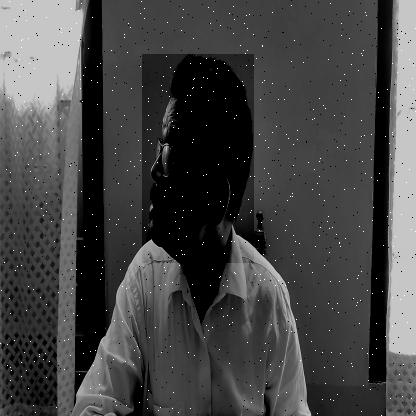Distracted: (142, 54, 254, 263)
